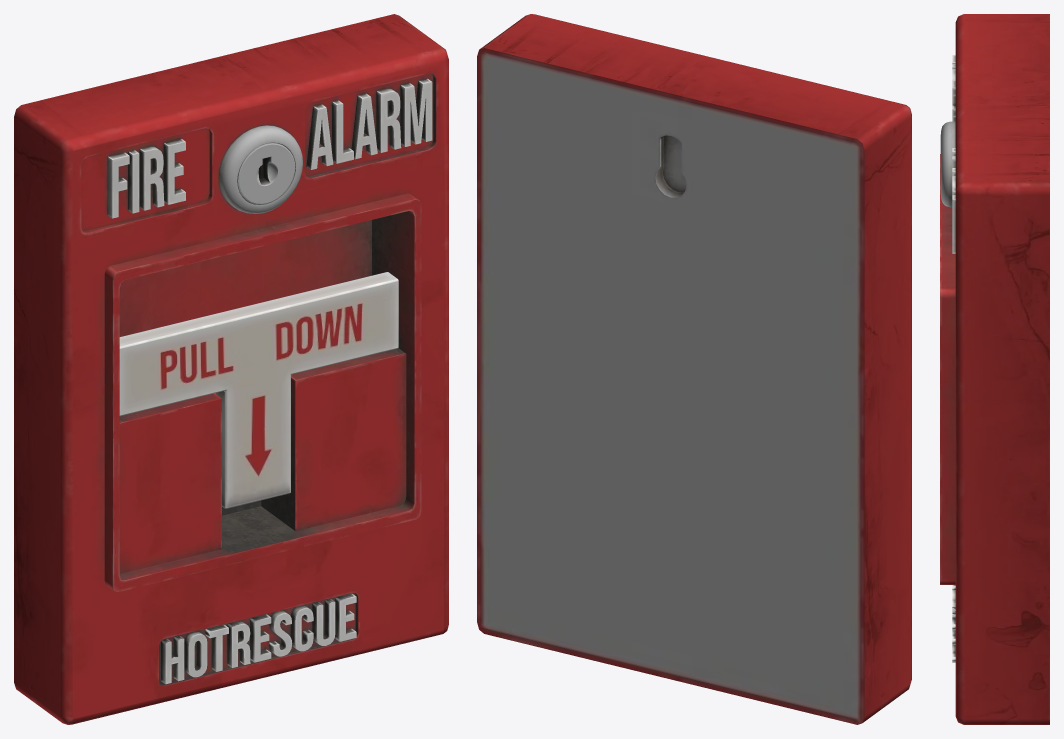
File: fire_alarm.glb
3 renders of one model, left to right at view 1: azimuth 30°, elevation 25°; view 2: azimuth 150°, elevation 25°; view 3: azimuth 270°, elevation 25°, orthographic. The views are drawn at different scales.
Parts seen in each view (by area): view 1: fire_alarm; view 2: fire_alarm; view 3: fire_alarm.
Boxes of the visible parts, x1,y1,x2,y2 form: fire_alarm: (14,14,448,724); fire_alarm: (477,14,911,724); fire_alarm: (940,14,1049,724).
Bounding box in the file's own units: 0.0994 × 0.1436 × 0.0264.
Materials: 1 (1 with a texture image).
